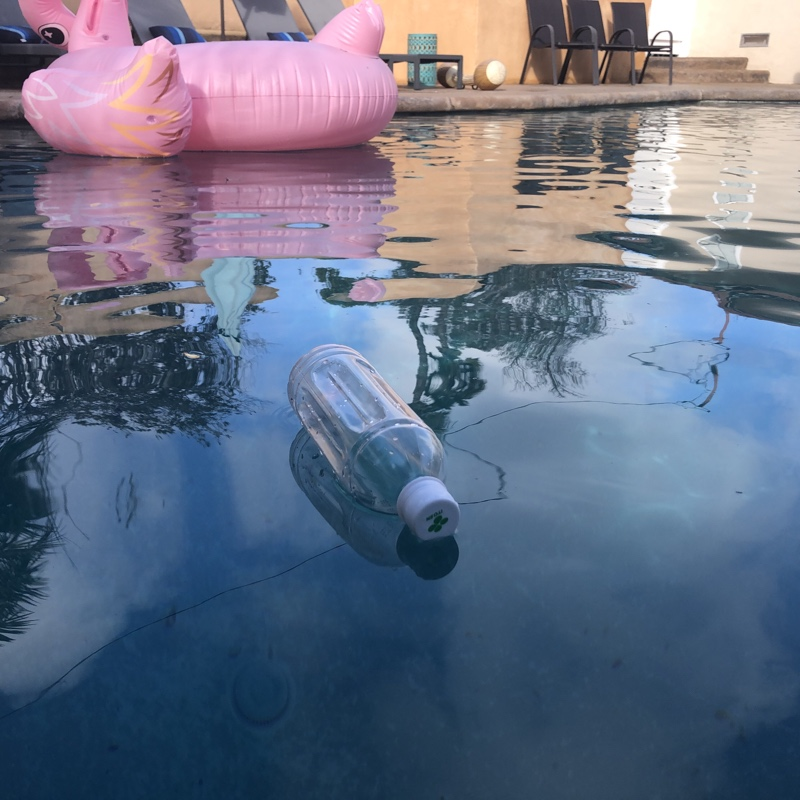Plastic Bottle: (283, 340, 465, 549)
